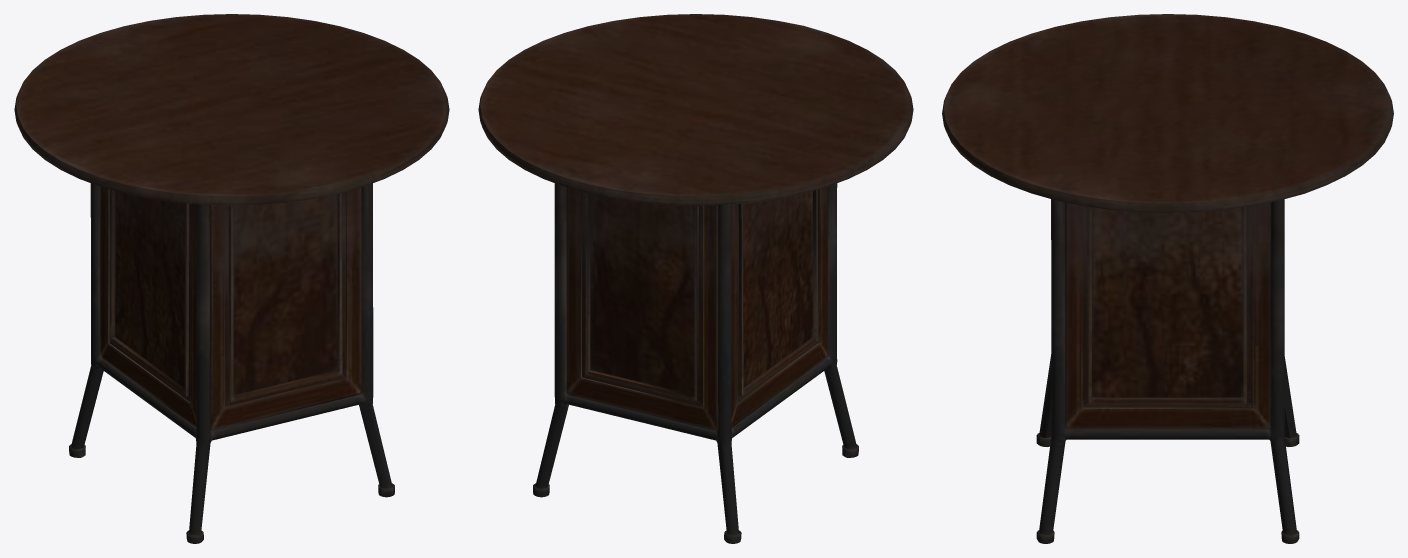
Rendered from table_round.glb.
3 renders of one model, left to right at view 1: azimuth 30°, elevation 25°; view 2: azimuth 150°, elevation 25°; view 3: azimuth 270°, elevation 25°, orthographic. The views are drawn at different scales.
Visible parts, largest first — view 1: round_wooden_table_02; view 2: round_wooden_table_02; view 3: round_wooden_table_02.
Boxes of the visible parts, box(x1,y1,x2,y2) form: round_wooden_table_02: box(14, 14, 449, 543); round_wooden_table_02: box(478, 14, 913, 543); round_wooden_table_02: box(942, 14, 1393, 543).
Bounding box in the file's own units: 0.7962 × 0.7464 × 0.7962.
1 material, 1 textured.
